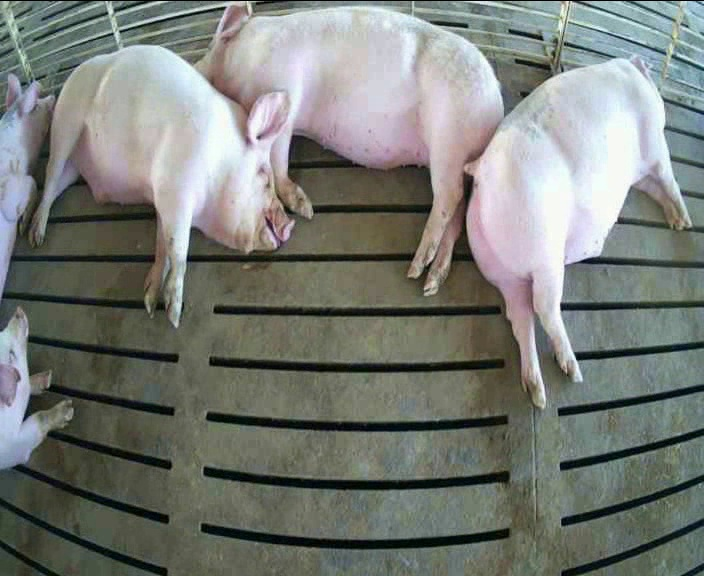pig: (196, 5, 502, 293), (466, 57, 690, 408), (29, 46, 293, 326), (0, 74, 54, 297), (0, 308, 72, 468)
